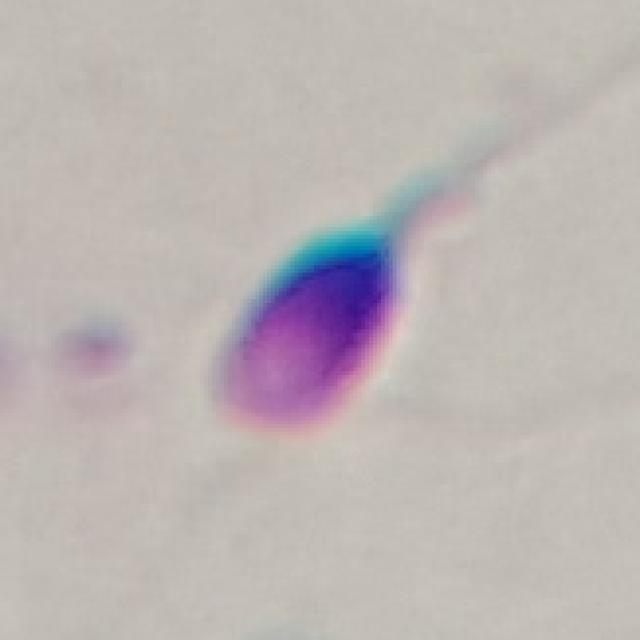normal sperm: (210, 156, 483, 437)
